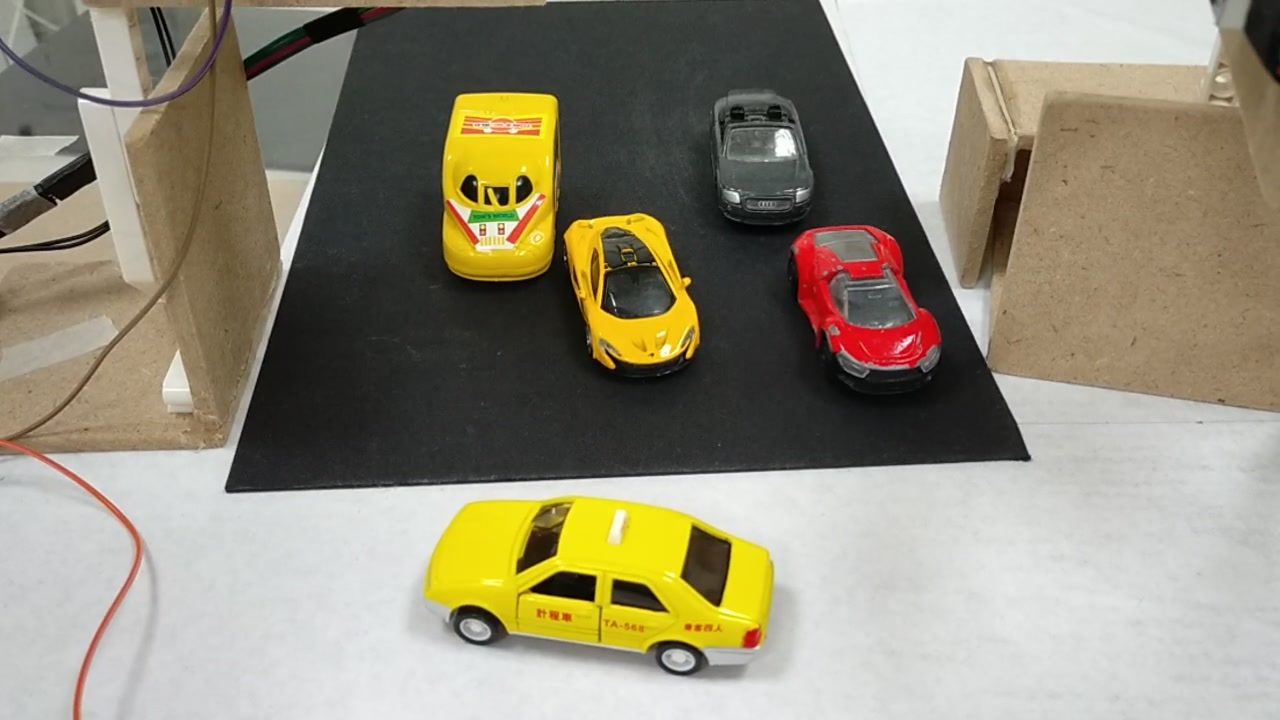car: (429, 496, 780, 683), (786, 226, 940, 393), (562, 218, 703, 376), (706, 86, 814, 225)
